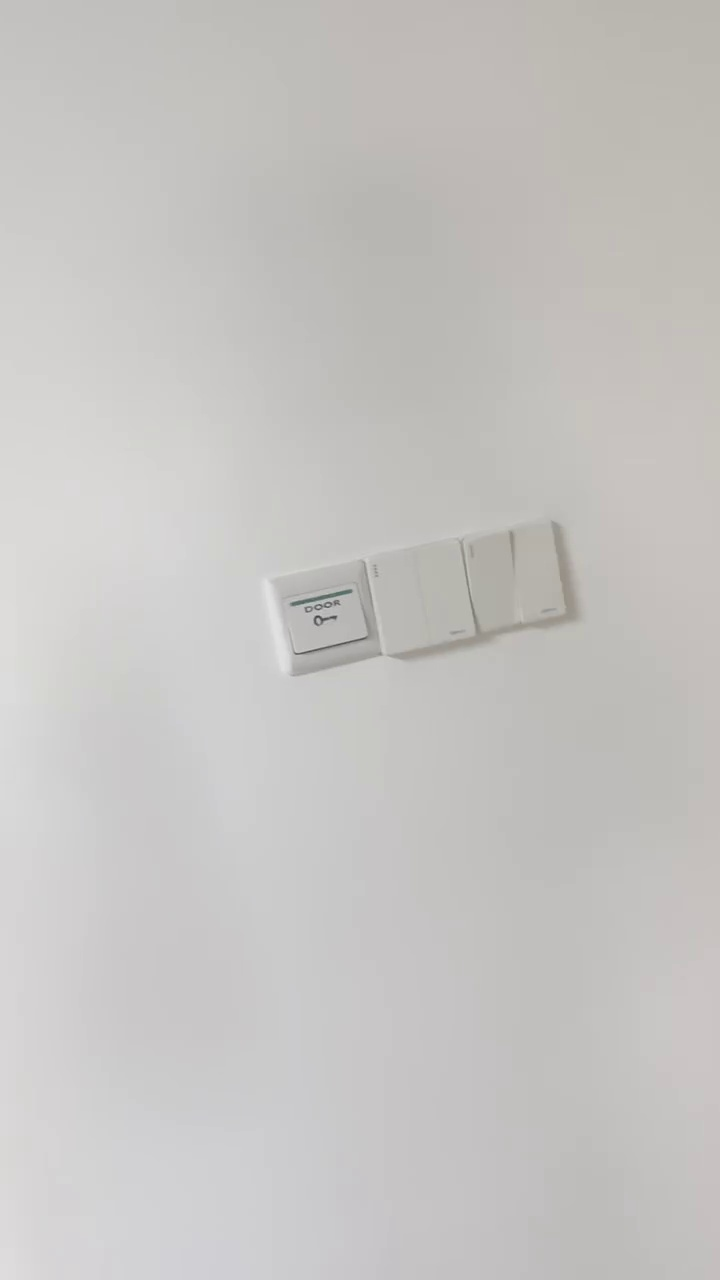button: (459, 517, 576, 636), (366, 538, 481, 659)
